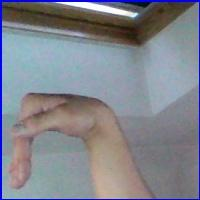del: (4, 91, 119, 191)
